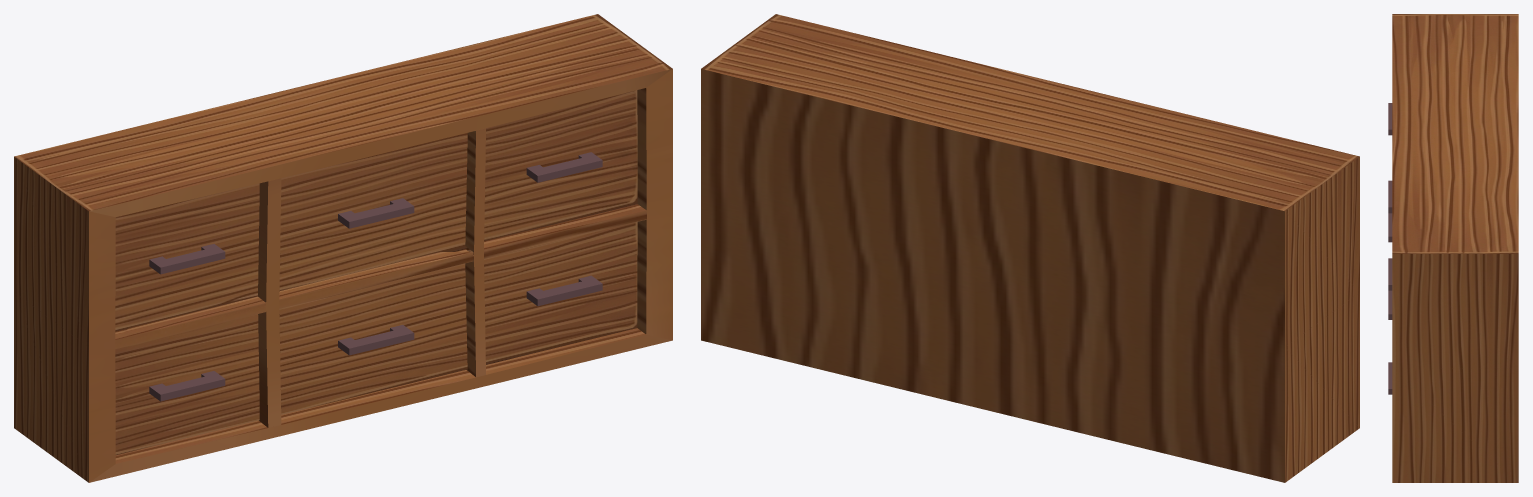
File: Armario.fbx
3 views of the same model, side by side, from view 1: azimuth 30°, elevation 25°; view 2: azimuth 150°, elevation 25°; view 3: azimuth 270°, elevation 25° (orthographic). The views are drawn at different scales.
Visible parts, largest first — view 1: Mueble, Manijas estante; view 2: Mueble; view 3: Mueble, Manijas estante.
Boxes of the visible parts, bbox=[...] form: Mueble: bbox=[14, 14, 672, 482]; Manijas estante: bbox=[149, 152, 602, 401]; Mueble: bbox=[701, 14, 1359, 482]; Mueble: bbox=[1392, 14, 1518, 482]; Manijas estante: bbox=[1388, 103, 1392, 394].
Bounding box in the file's own units: 90 × 40 × 20.6.
Materials: 2 (1 with a texture image).
